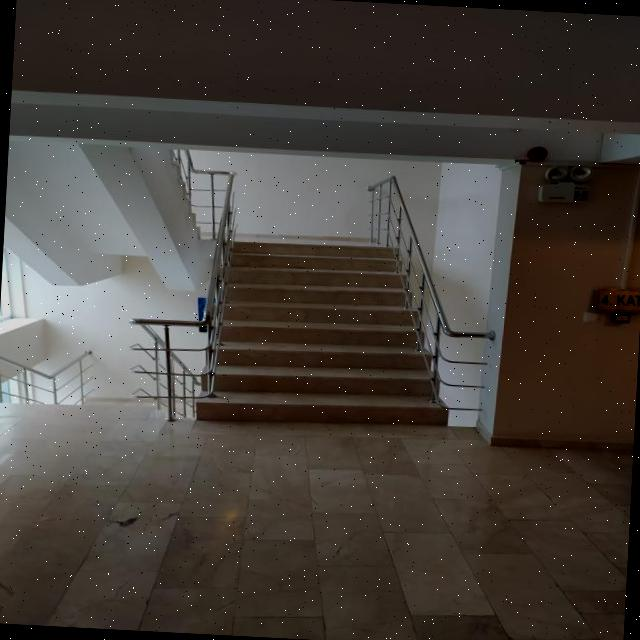stairs: (194, 232, 458, 432)
